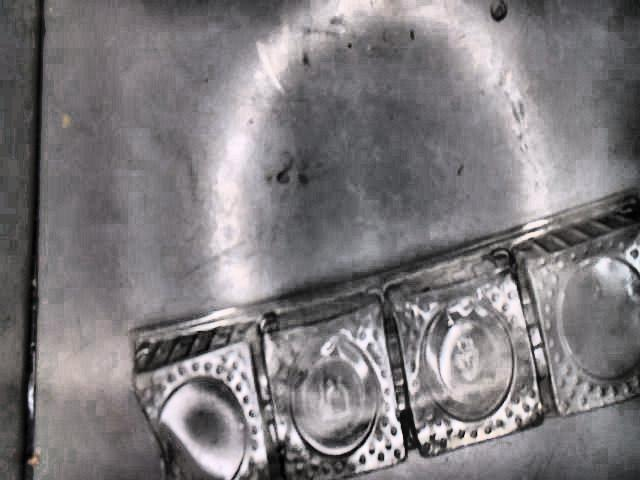Plastic: (133, 188, 640, 480)
